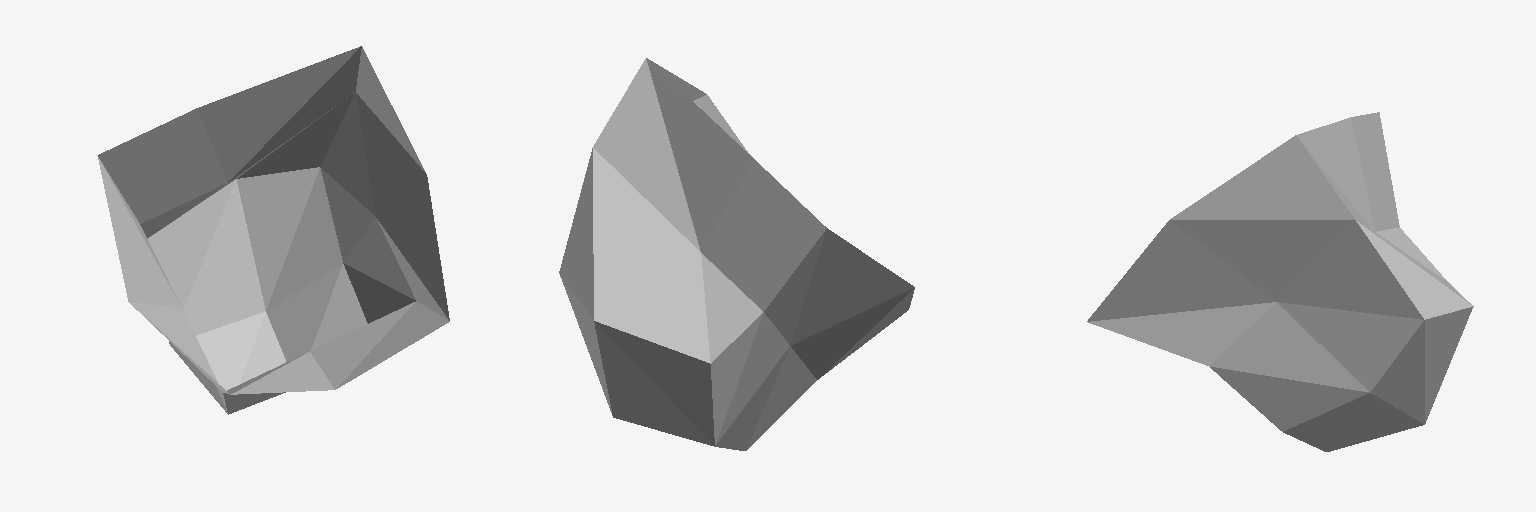
The model's file is HeartBottom3.obj.
3 renders of one model, left to right at view 1: azimuth 30°, elevation 25°; view 2: azimuth 150°, elevation 25°; view 3: azimuth 270°, elevation 25°, orthographic.
Parts seen in each view (by area): view 1: Heart; view 2: Heart; view 3: Heart.
Part boxes in pixels (left/top/right/bottom): Heart: left=97, top=46, right=449, bottom=414; Heart: left=559, top=58, right=914, bottom=450; Heart: left=1087, top=112, right=1473, bottom=451.
Size of the model in its own units: 2.92 by 3.58 by 3.56.